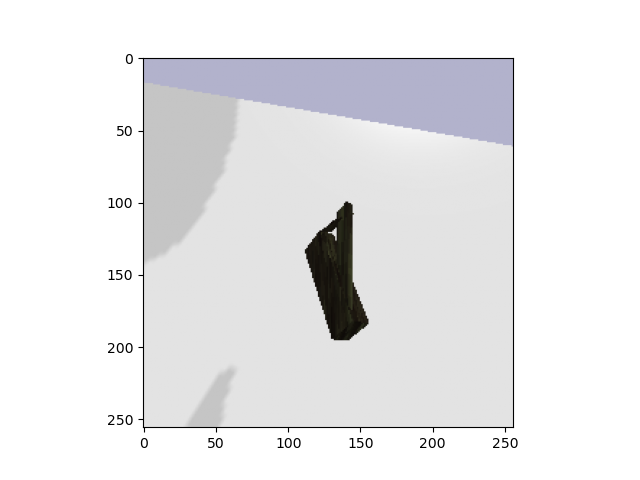v249b387_109: (298, 199, 383, 348)
